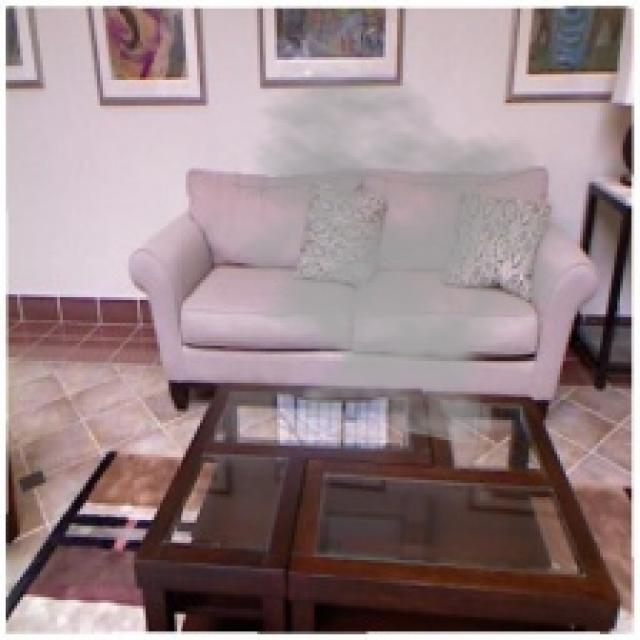Smoke: (197, 62, 586, 448)
